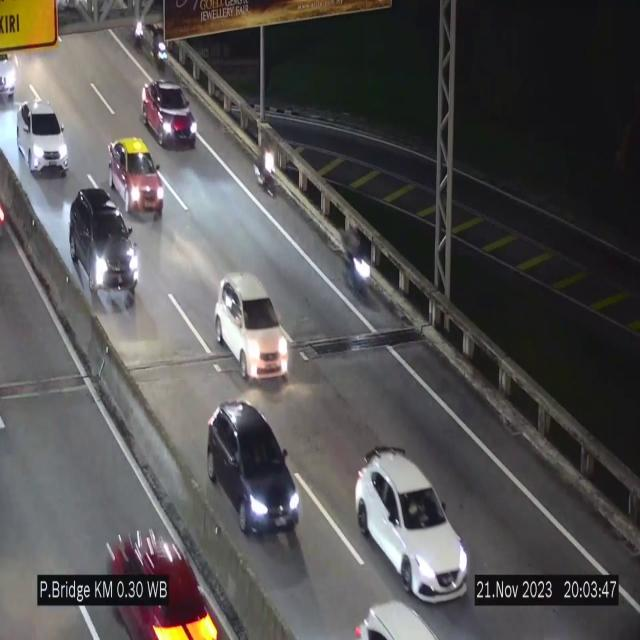Car: (355, 446, 468, 602), (208, 401, 300, 534), (214, 273, 290, 380), (68, 180, 138, 294), (108, 134, 166, 218), (18, 100, 68, 174), (141, 80, 197, 146)
Motorcycle: (347, 222, 370, 308), (255, 127, 278, 210), (153, 25, 171, 76), (135, 7, 146, 55)
